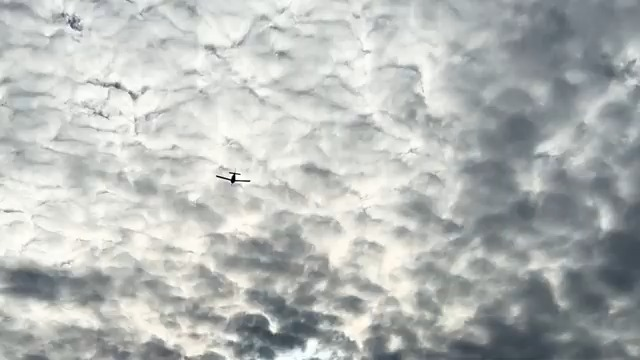not_drone: (211, 167, 251, 186)
